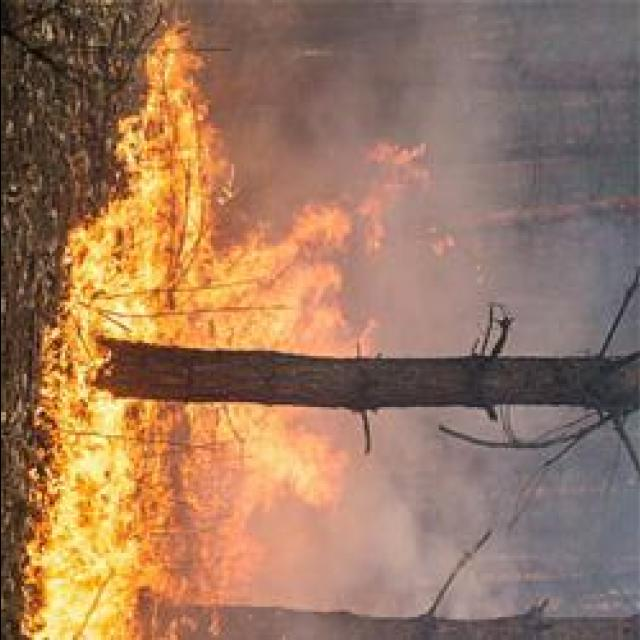fire: (37, 410, 148, 640), (203, 198, 352, 348), (70, 208, 214, 342), (123, 34, 213, 235), (226, 419, 312, 489)
smoke: (285, 14, 537, 220), (348, 212, 624, 354), (338, 482, 516, 612), (248, 513, 332, 610)
